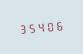five: (27, 21, 35, 34)
four: (36, 20, 44, 33)
six: (54, 18, 62, 32)
three: (18, 22, 26, 35)
zero: (45, 19, 53, 32)
